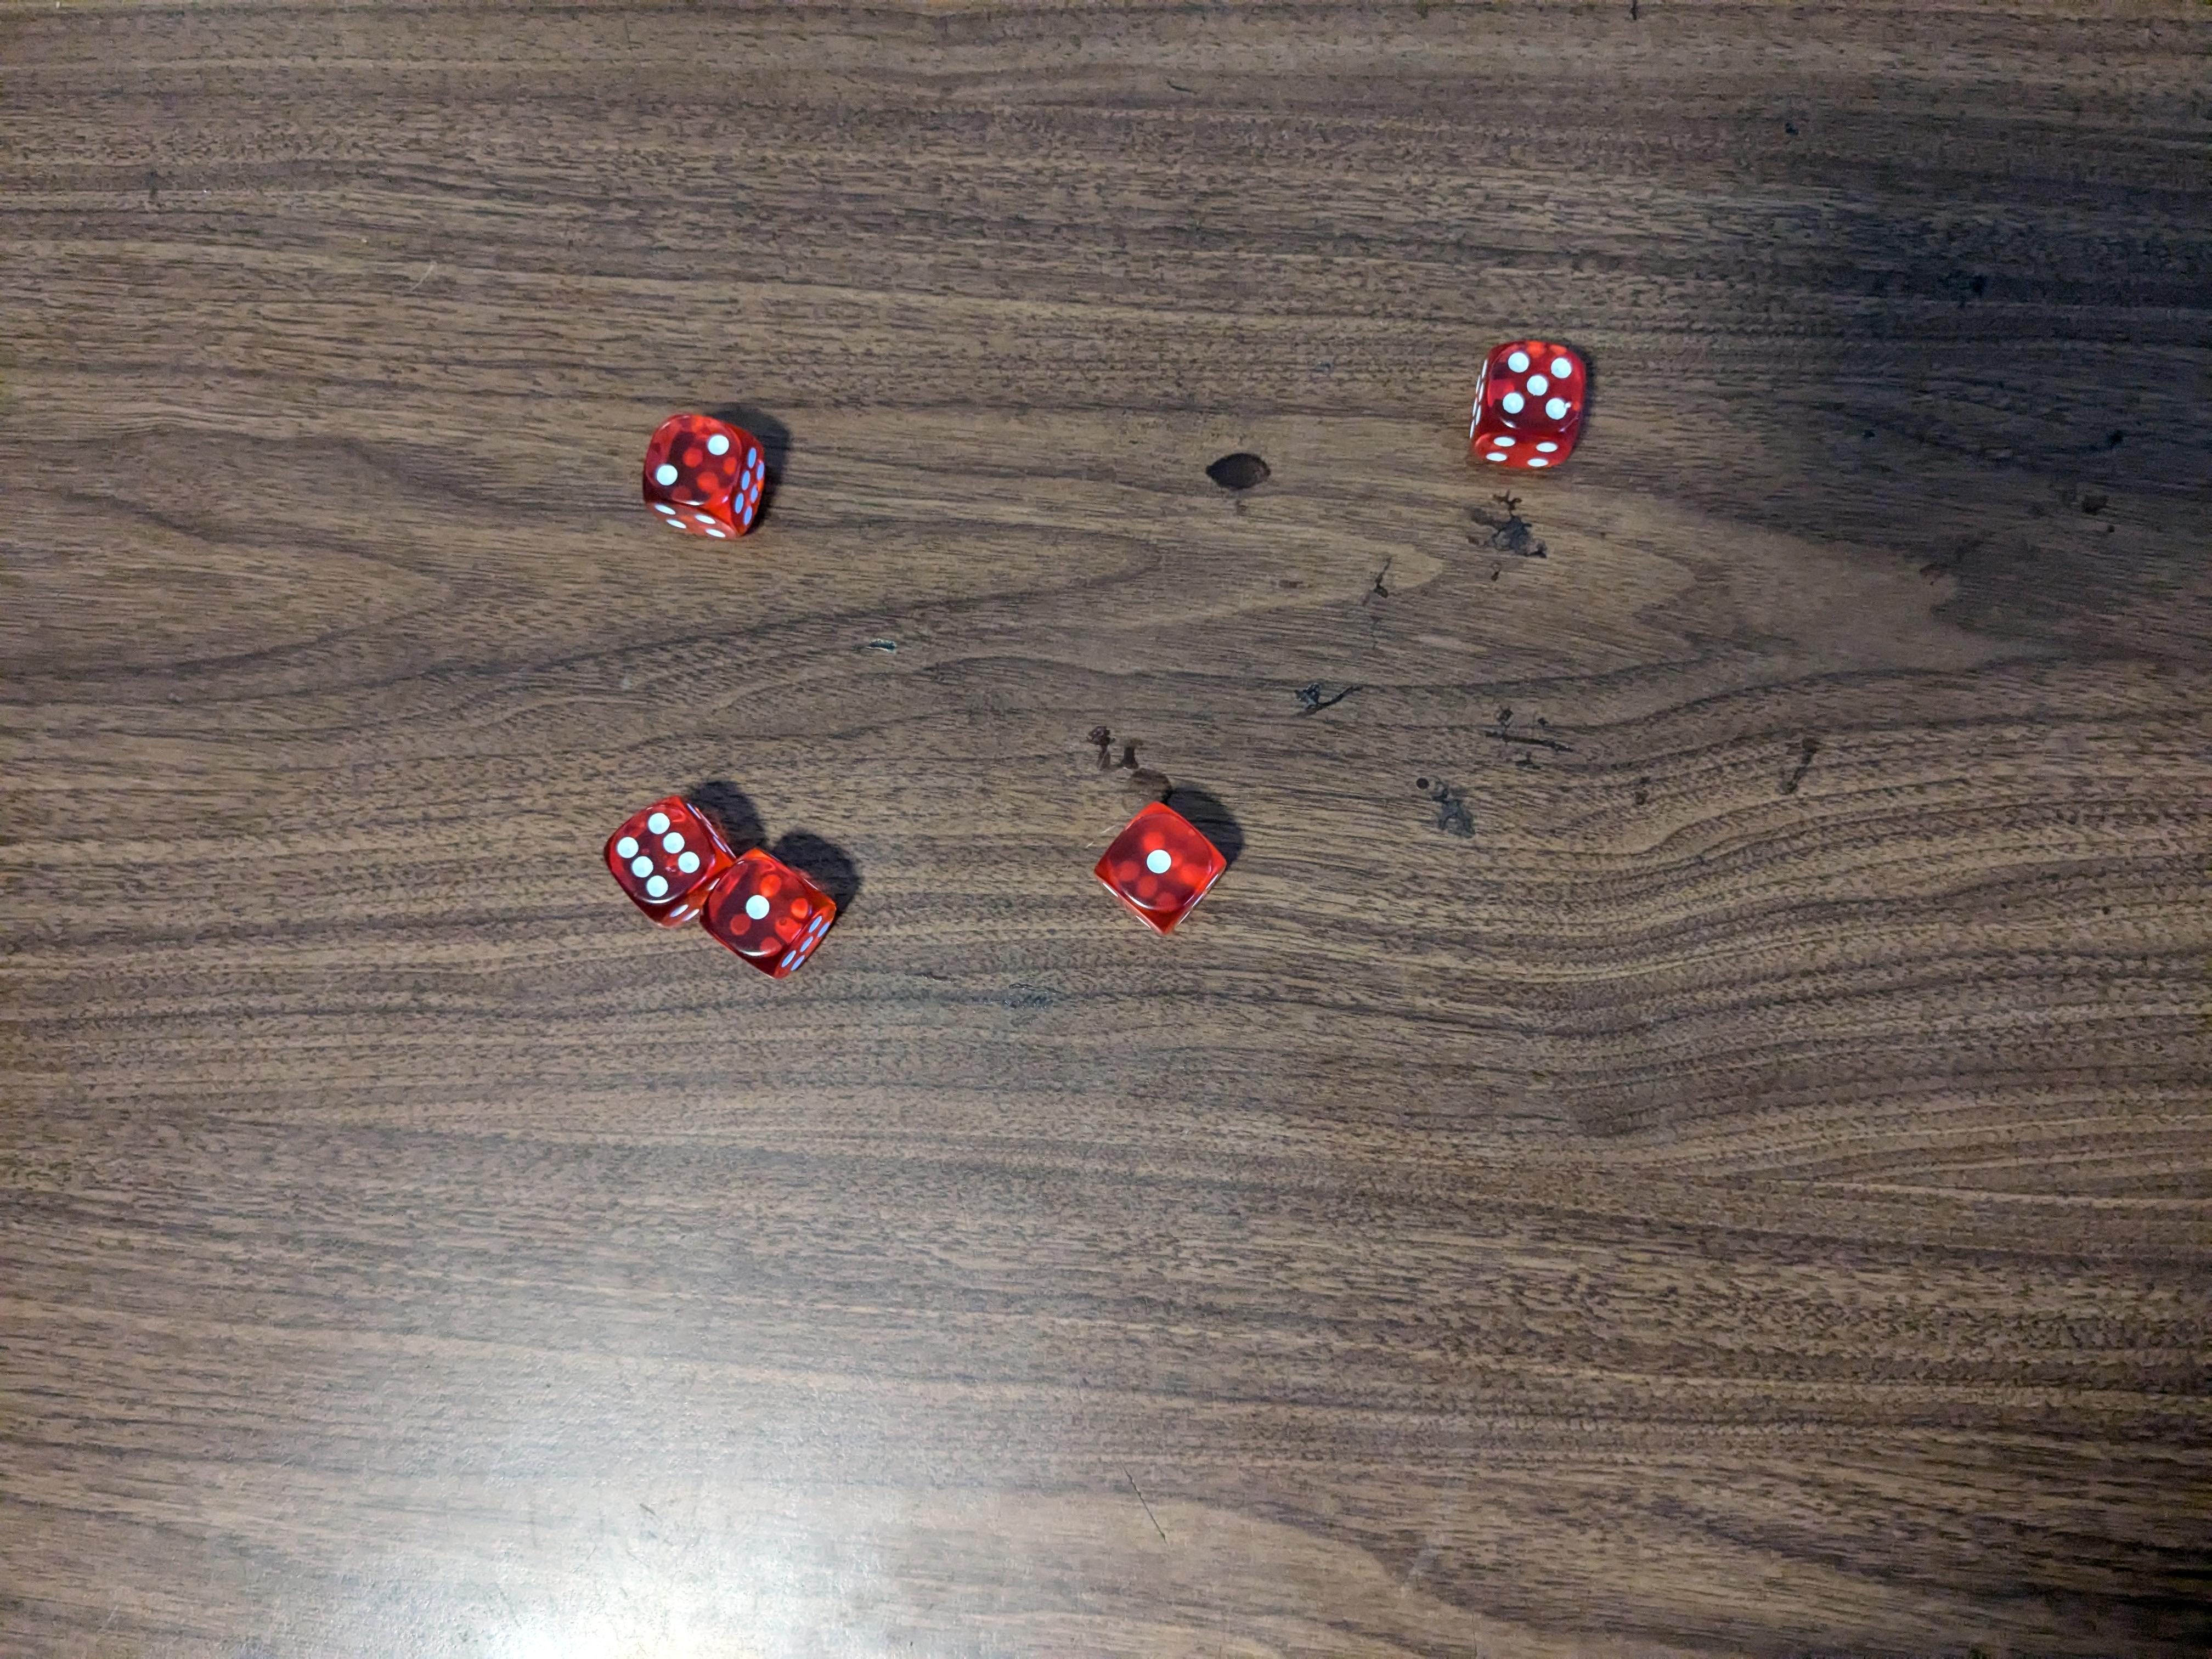five: (1461, 338, 1595, 477)
one: (1092, 791, 1231, 929), (702, 850, 836, 976)
six: (604, 793, 749, 924)
two: (639, 411, 777, 549)
